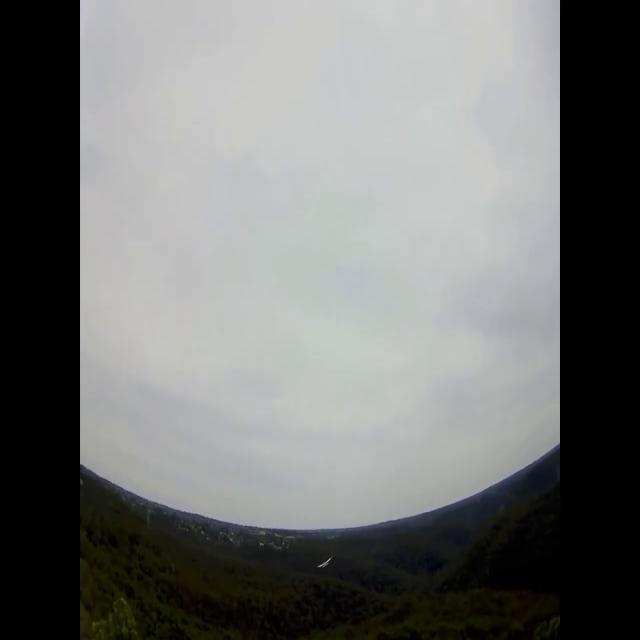iha: (319, 560, 331, 566)
